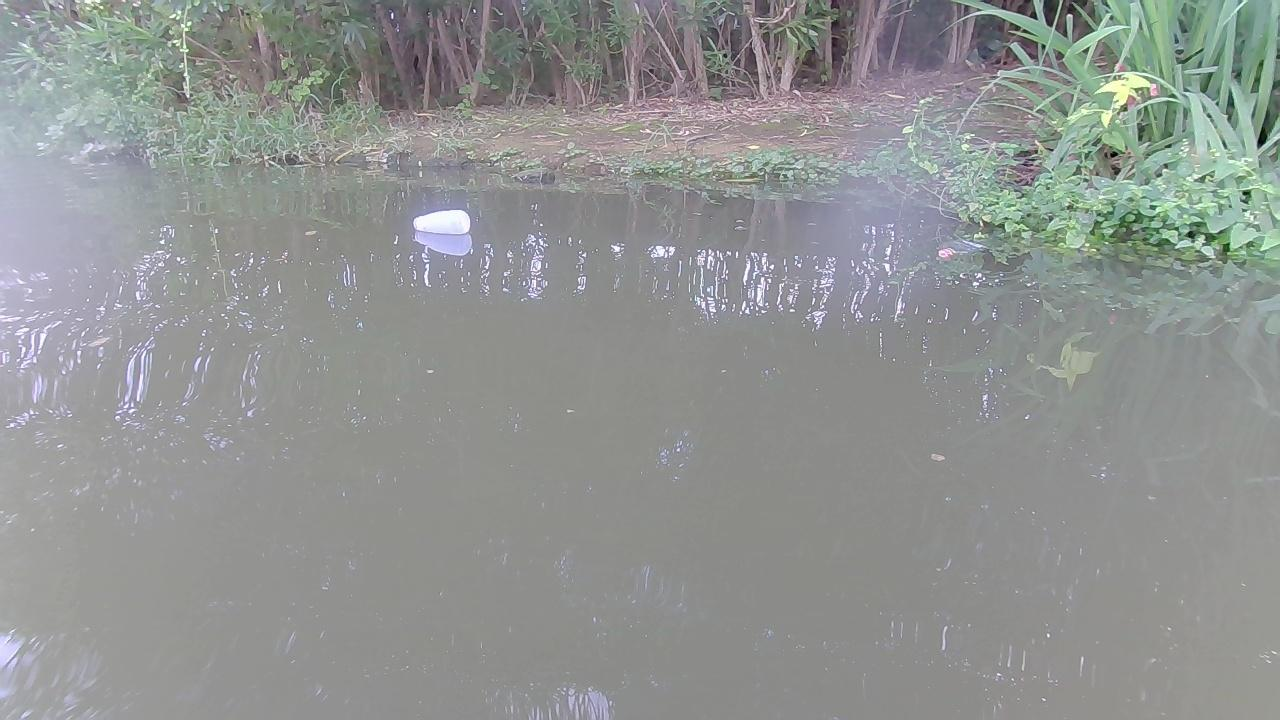bottle: (406, 204, 466, 236)
